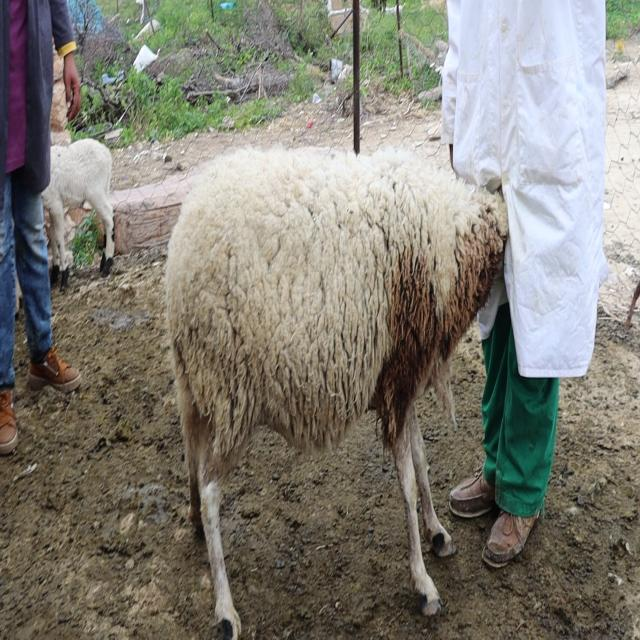Score_3: (165, 149, 509, 639)
